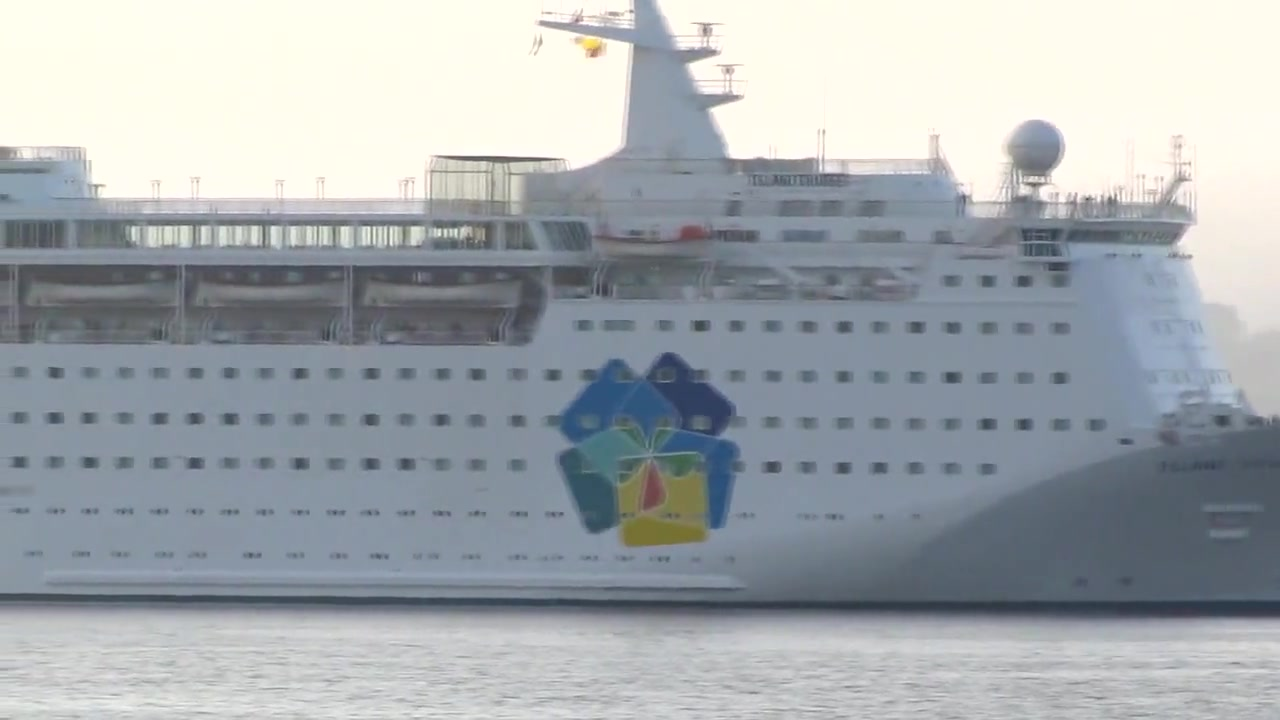boat: (1, 1, 1280, 614)
